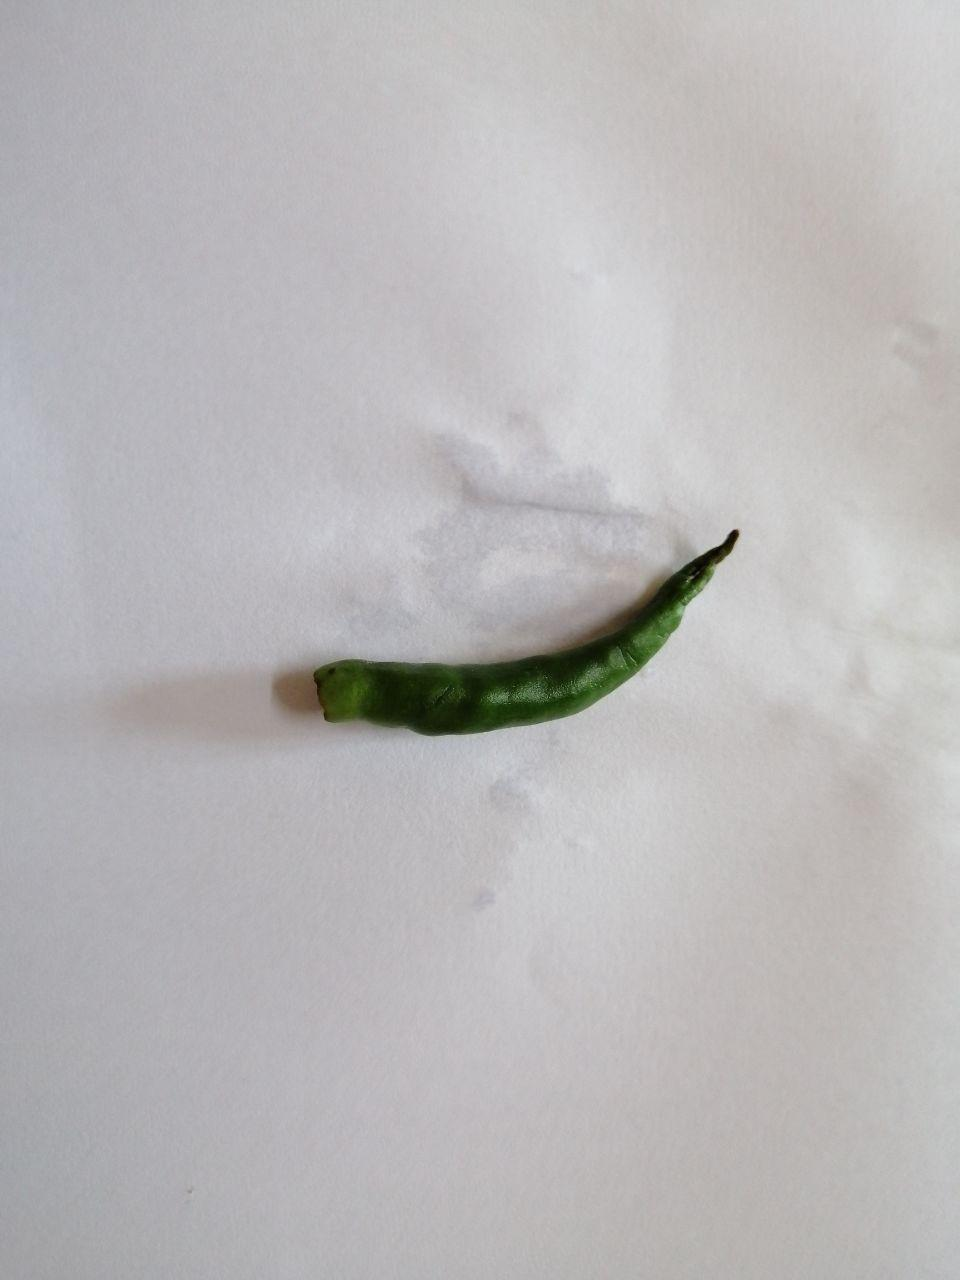lada hijau: (275, 514, 777, 759)
